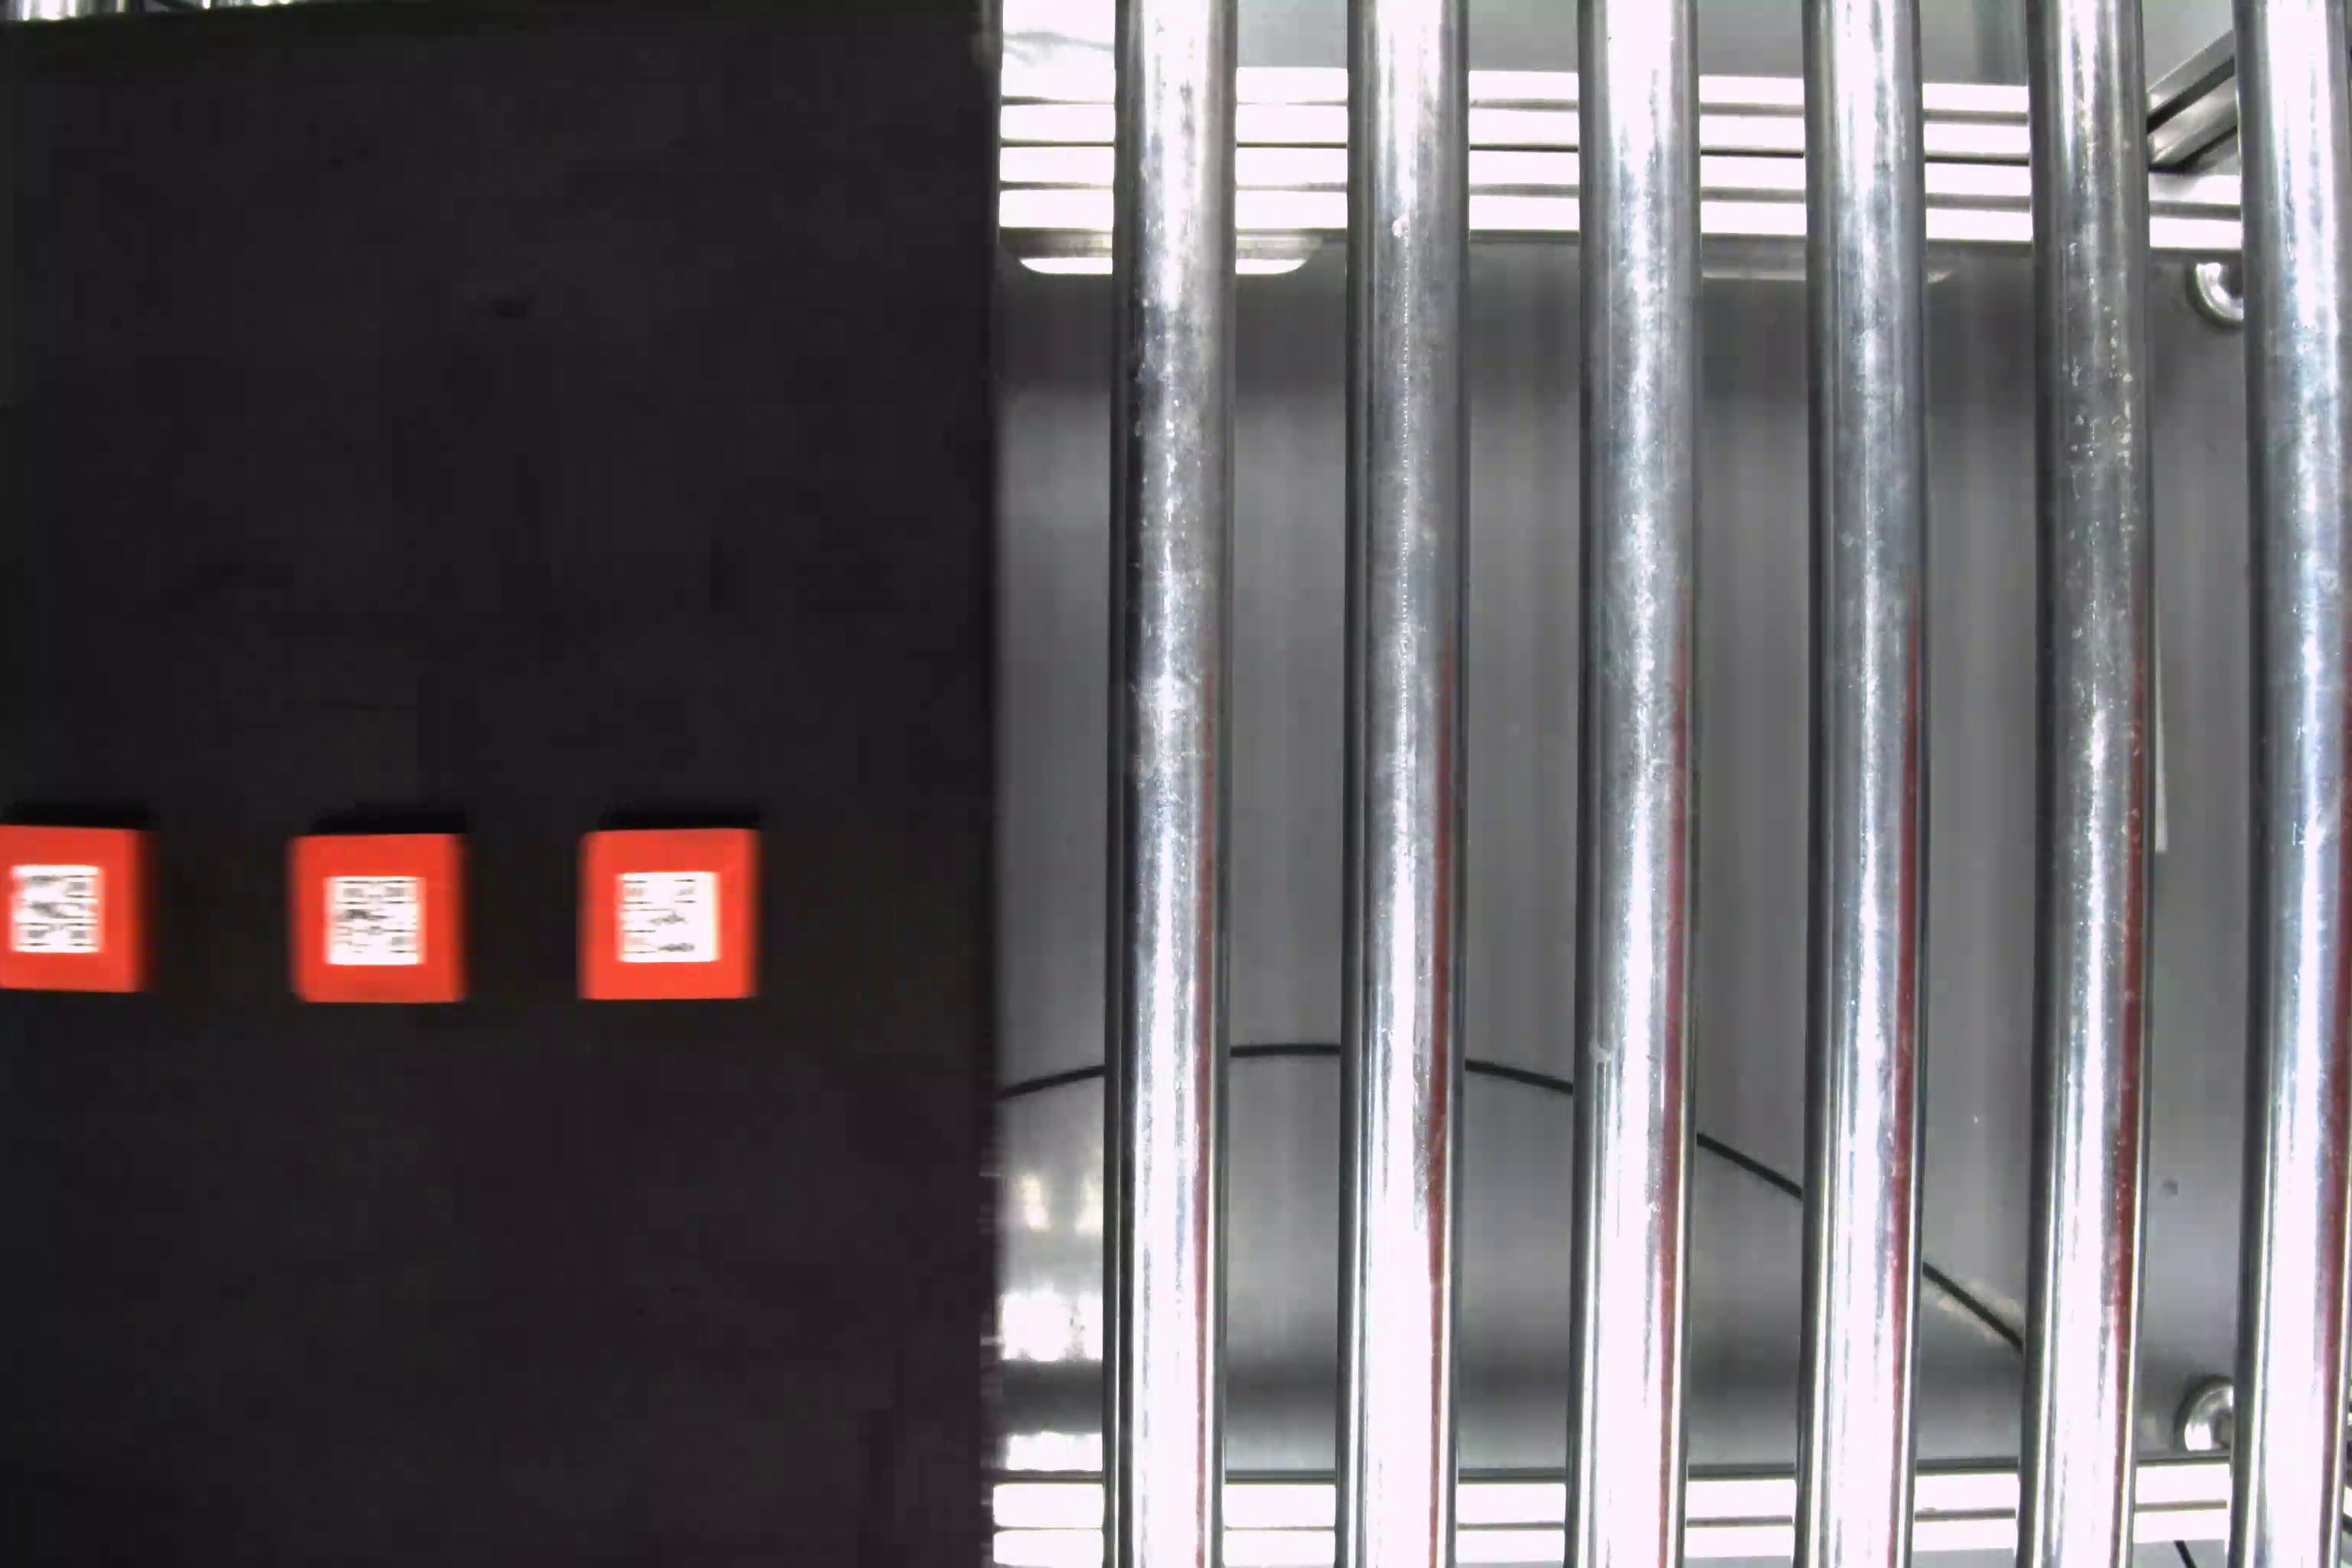wood: (285, 828, 481, 1006), (576, 826, 763, 1008), (3, 821, 164, 1001)
